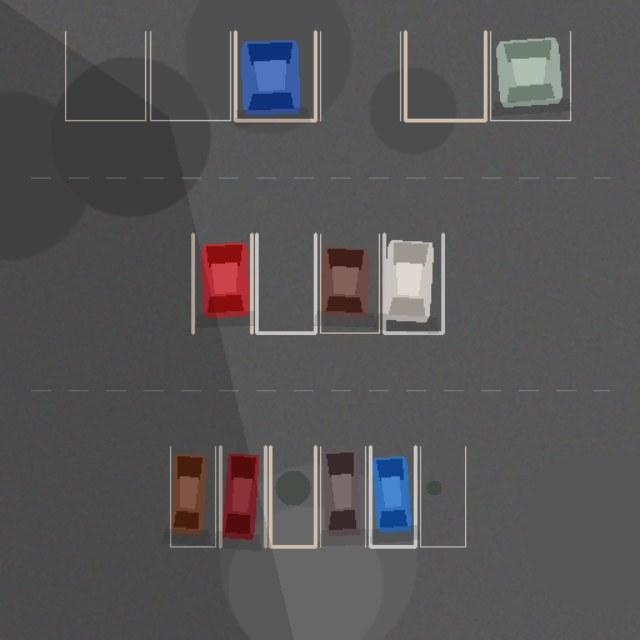space-empty: (65, 31, 145, 120), (150, 31, 230, 120), (320, 31, 400, 120), (405, 31, 485, 120), (256, 234, 315, 333), (270, 446, 315, 546), (420, 446, 465, 546)
space-occupied: (235, 31, 315, 120), (490, 31, 570, 120), (320, 234, 379, 333), (384, 234, 443, 333), (193, 234, 251, 333), (170, 446, 215, 546), (220, 446, 265, 546), (320, 446, 365, 546), (370, 446, 415, 546)
